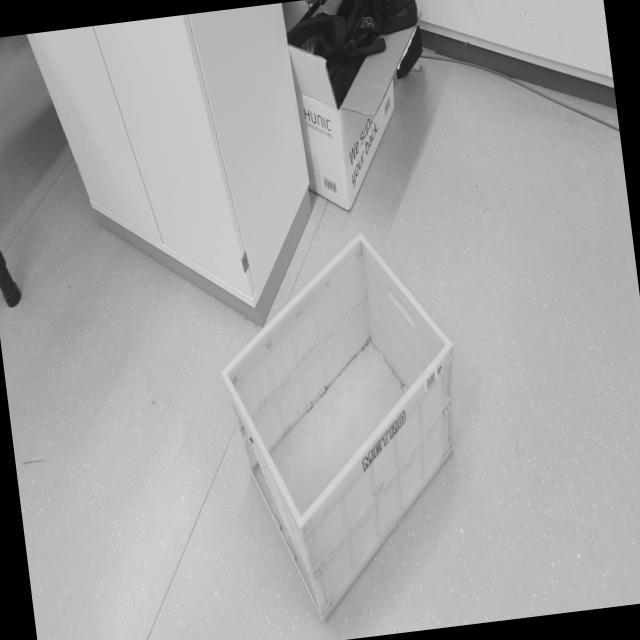box: (198, 218, 492, 632)
